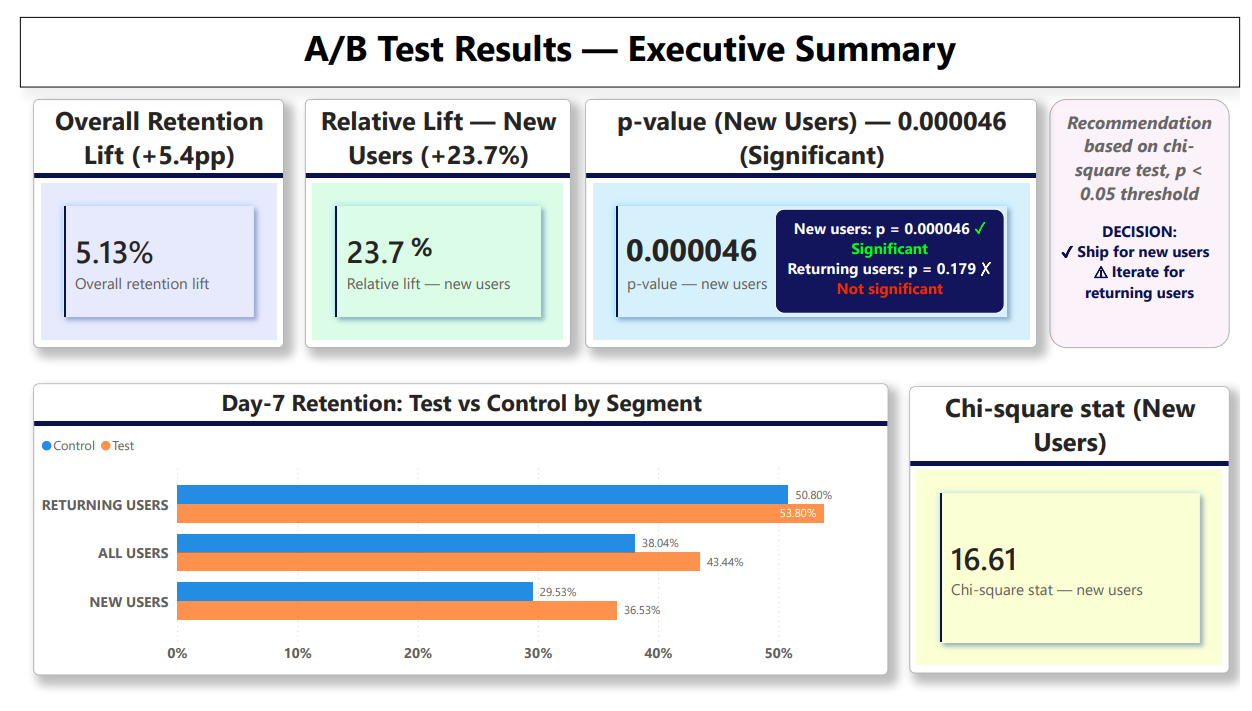

The dashboard page shown, as its layout file describes it:
{"tool":"powerbi","page":{"name":"Executive Summary","canvas":[1280,720],"ordinal":0},"visuals":[{"type":"cardVisual","title":"Overall Retention Lift (+5.4pp)","fields":{"Data":["Avg(StatsResults.absolute_lift)"]},"box":[13.7,85.8,263.7,261.2],"z":0},{"type":"textbox","box":[0,0,1280,74.4],"z":1000},{"type":"cardVisual","title":"Relative Lift — New Users (+23.7%)","fields":{"Data":["select","StatsResults.relative_lift_new_users"]},"box":[298.6,85.8,279.9,261.2],"z":2000},{"type":"clusteredBarChart","title":"Day-7 Retention: Test vs Control by Segment","fields":{"Category":["StatsResults.segment"],"Y":["Avg(StatsResults.retention_ctrl)","Avg(StatsResults.retention_test)"]},"box":[13.7,384.4,896.9,306],"z":3000},{"type":"textbox","box":[1079.8,85.8,189.1,261.2],"z":4000},{"type":"cardVisual","title":"p-value (New Users) — 0.000046 (Significant)","fields":{"Data":["select","StatsResults.p_value_new_users"]},"box":[593.4,85.8,473.9,261.2],"z":5000},{"type":"textbox","box":[630.7,216.4,207.7,54.7],"z":6000},{"type":"textbox","box":[792.5,200.5,240.2,110.5],"z":7000},{"type":"cardVisual","title":"Chi-square stat (New Users)","fields":{"Data":["Avg(StatsResults.chi2_stat)"]},"box":[933,386.9,335.9,301],"z":8000},{"type":"textbox","box":[405,216.2,100,55],"z":9000}]}

Visuals, with their boxes in screenshot pixels (x1, y1, x2, y2), scaled from the page's 1280x720 canvas onto the 1252x711 screenshot:
"Overall Retention Lift (+5.4pp)" cardVisual: 13, 85, 271, 343
textbox: 0, 0, 1251, 73
"Relative Lift — New Users (+23.7%)" cardVisual: 292, 85, 566, 343
"Day-7 Retention: Test vs Control by Segment" clusteredBarChart: 13, 380, 891, 682
textbox: 1056, 85, 1241, 343
"p-value (New Users) — 0.000046 (Significant)" cardVisual: 580, 85, 1044, 343
textbox: 617, 214, 820, 268
textbox: 775, 198, 1010, 307
"Chi-square stat (New Users)" cardVisual: 913, 382, 1241, 679
textbox: 396, 213, 494, 268
